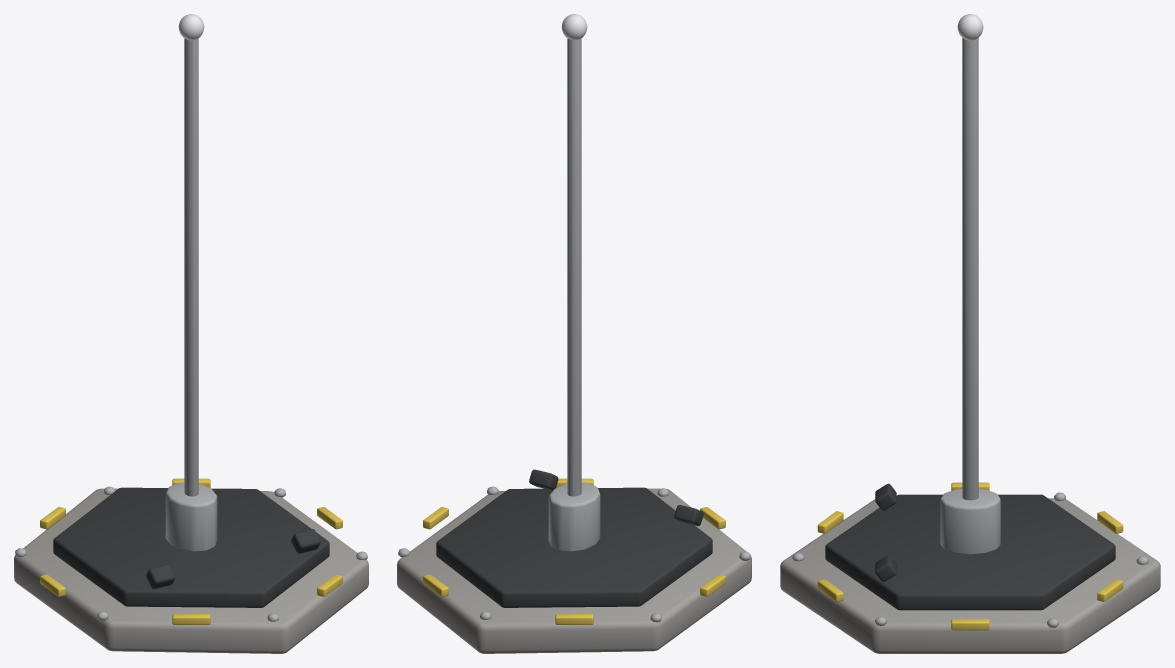
The model's file is building_flag.glb.
3 renders of one model, left to right at view 1: azimuth 30°, elevation 25°; view 2: azimuth 150°, elevation 25°; view 3: azimuth 270°, elevation 25°, orthographic.
Parts seen in each view (by area): view 1: Cylinder.001, Cylinder, Cylinder.003, Cylinder.002, Cube.007, Cube.008, Sphere.006; view 2: Cylinder.001, Cylinder, Cylinder.003, Cylinder.002, Sphere.006; view 3: Cylinder.001, Cylinder, Cylinder.003, Cylinder.002, Sphere.006.
Boxes of the visible parts, x1,y1,x2,y2 form: Cylinder.001: (53, 487, 329, 607); Cylinder: (14, 488, 368, 653); Cylinder.003: (184, 38, 198, 496); Cylinder.002: (165, 482, 217, 551); Cube.007: (291, 529, 320, 553); Cube.008: (146, 564, 175, 588); Sphere.006: (178, 14, 204, 40); Cylinder.001: (436, 487, 712, 607); Cylinder: (397, 488, 751, 653); Cylinder.003: (567, 38, 581, 496); Cylinder.002: (548, 482, 600, 551); Sphere.006: (561, 14, 587, 40); Cylinder.001: (825, 494, 1115, 610); Cylinder: (780, 498, 1160, 653); Cylinder.003: (962, 38, 978, 500); Cylinder.002: (940, 489, 1000, 554); Sphere.006: (957, 14, 983, 40).
Bounding box in the file's own units: 2.16 × 4.14 × 2.47.
